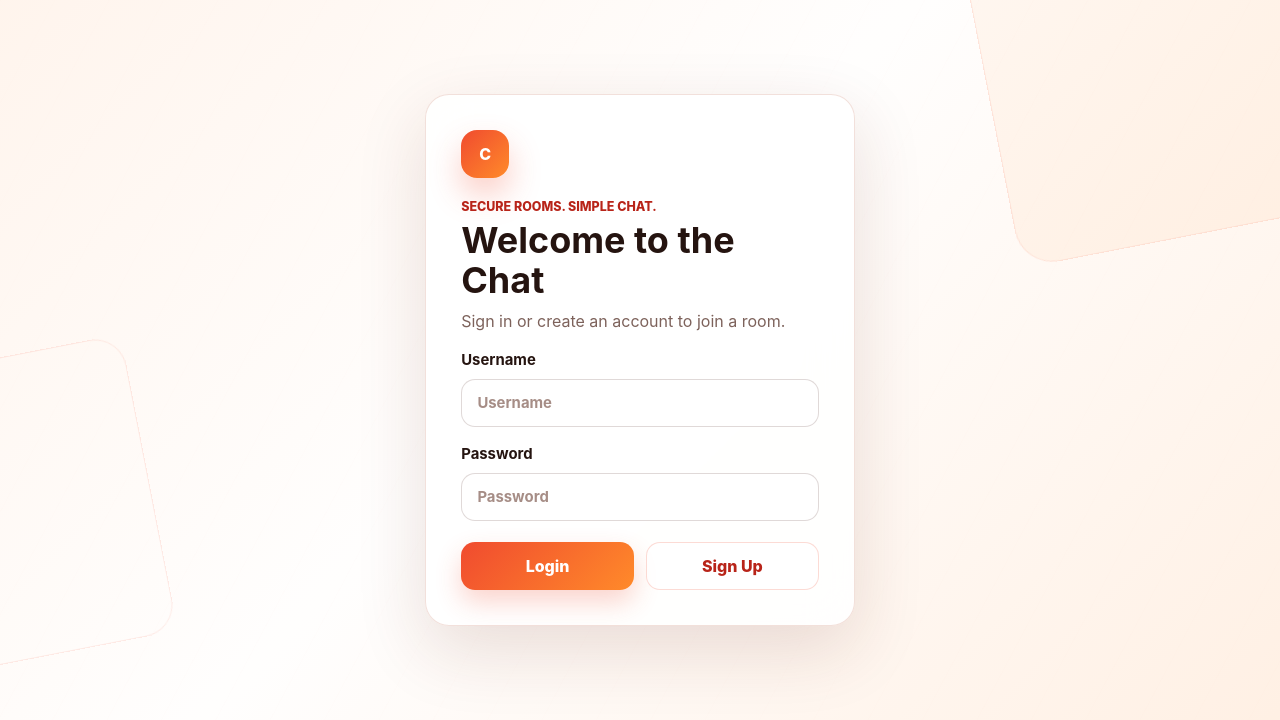
Test case: logout leaves the browser connection usable for the next login
This screenshot has width=1280, height=720.
In the field with placeholder "Username": coordinates (640, 403) [461,379,819,427], type "alice"
In the password field with placeholder "Password": coordinates (640, 497) [461,473,819,521], type "password"
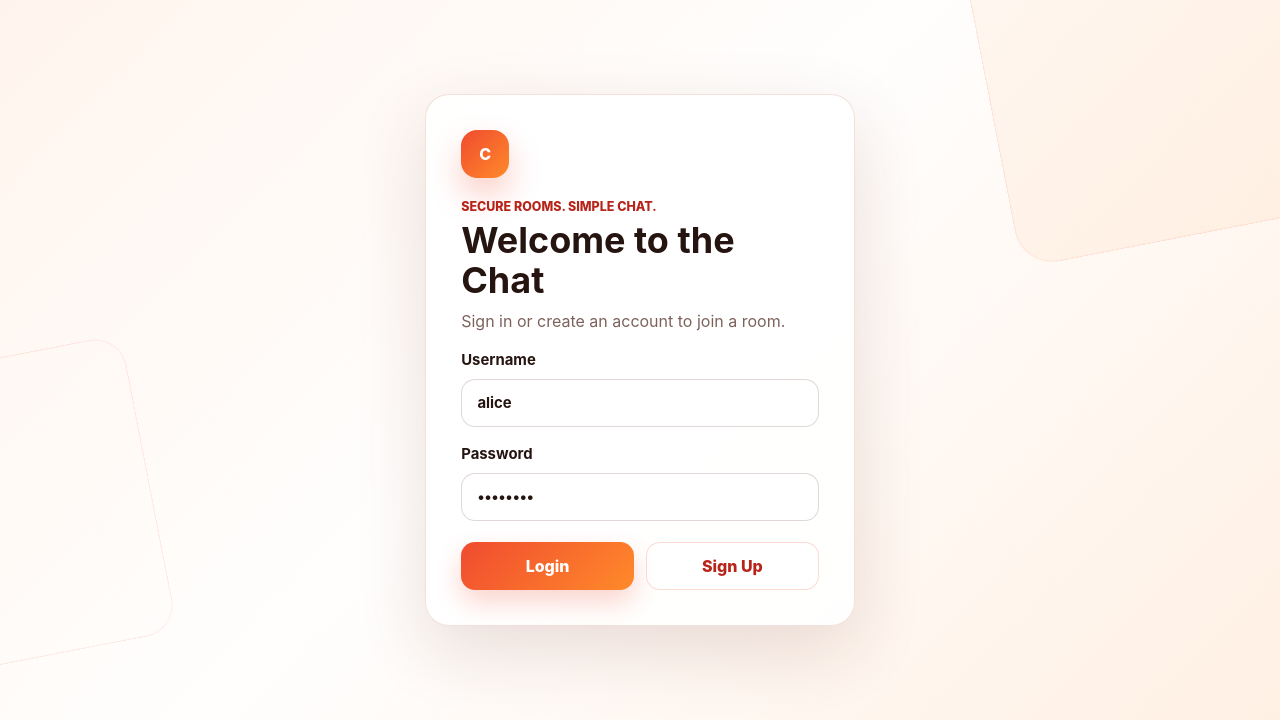
Click the button "Login": coordinates (548, 566) [461,542,634,590]
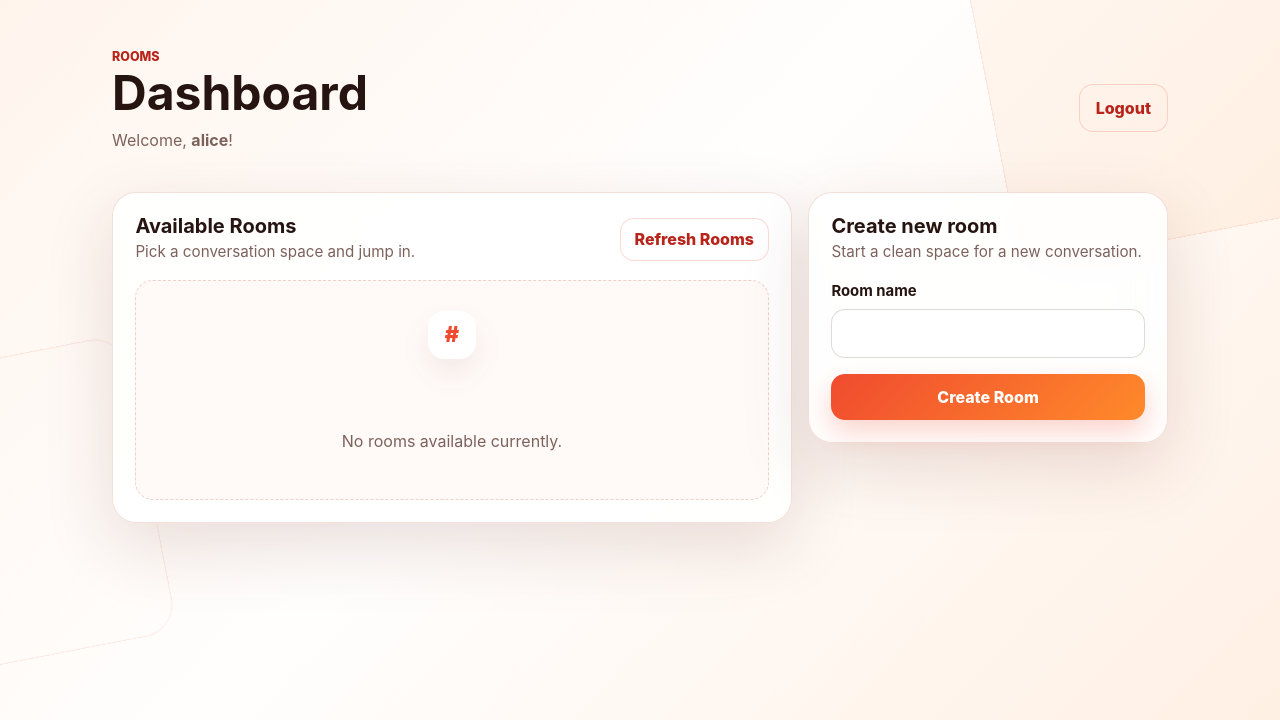
Click the button "Logout": coordinates (1123, 108) [1079,84,1168,132]
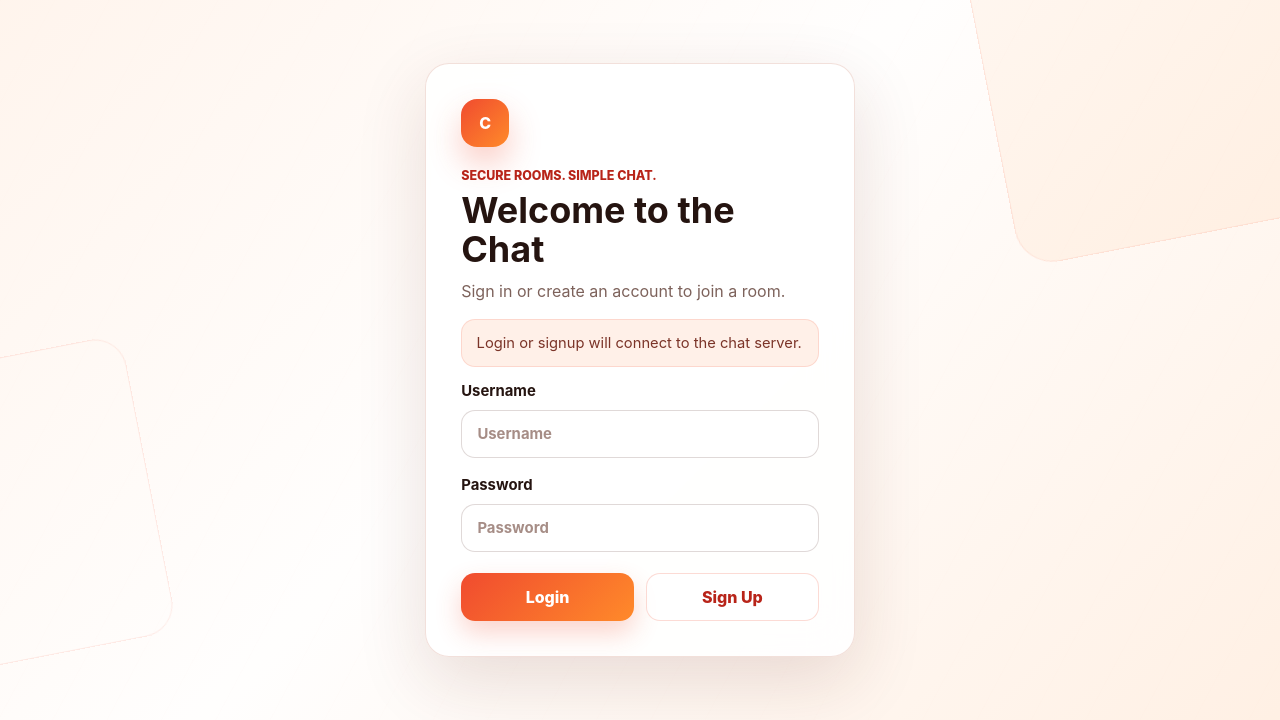
In the field with placeholder "Username": coordinates (640, 434) [461,410,819,458], type "alice"
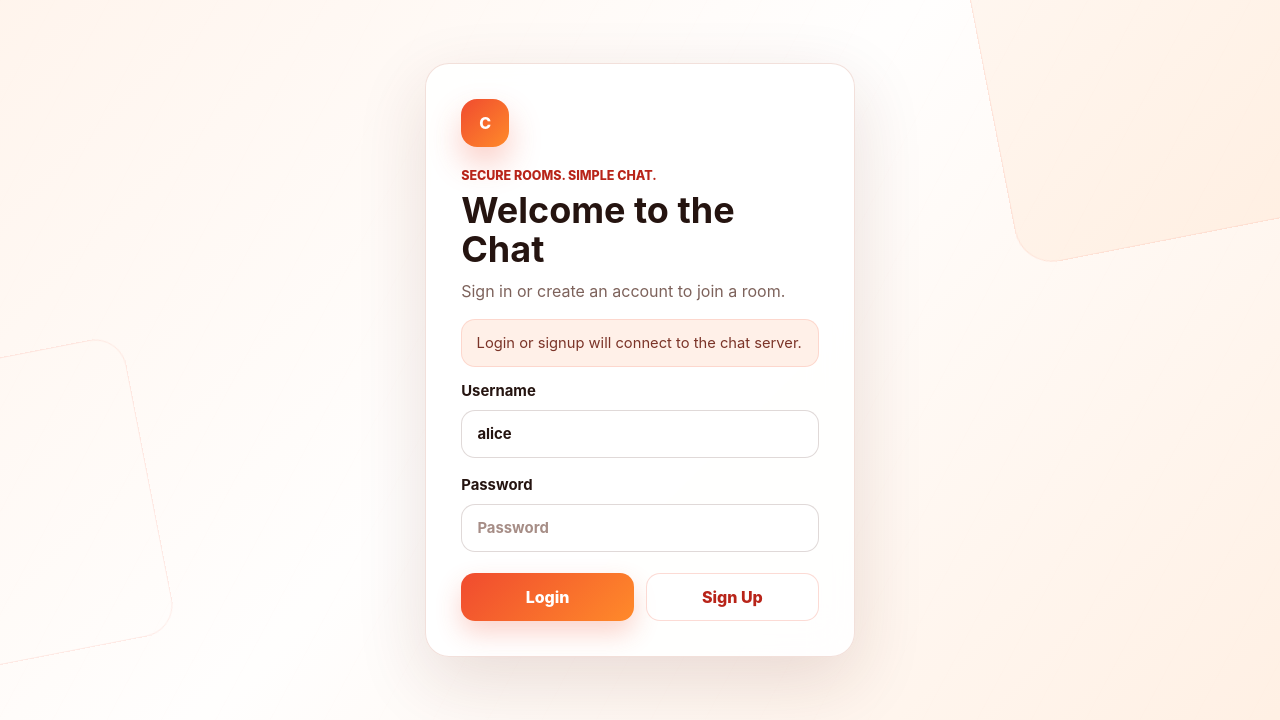
In the password field with placeholder "Password": coordinates (640, 528) [461,504,819,552], type "password"
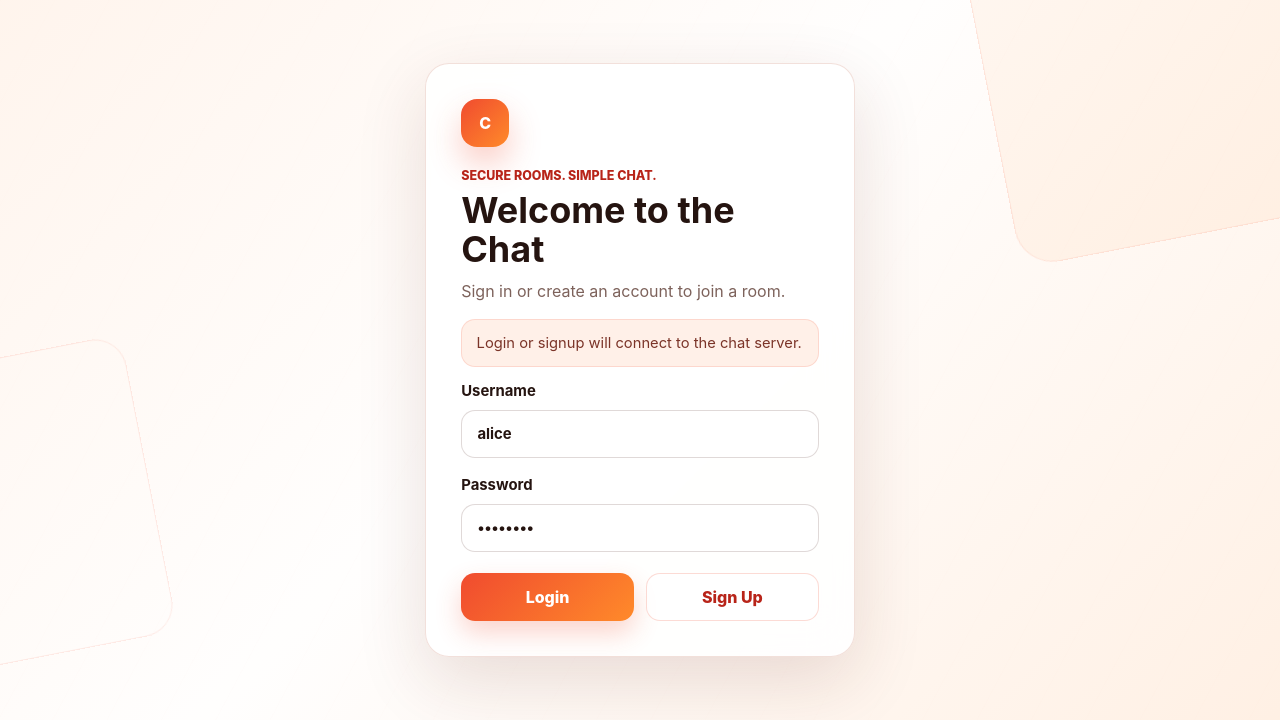
Click the button "Login": coordinates (548, 597) [461,573,634,621]
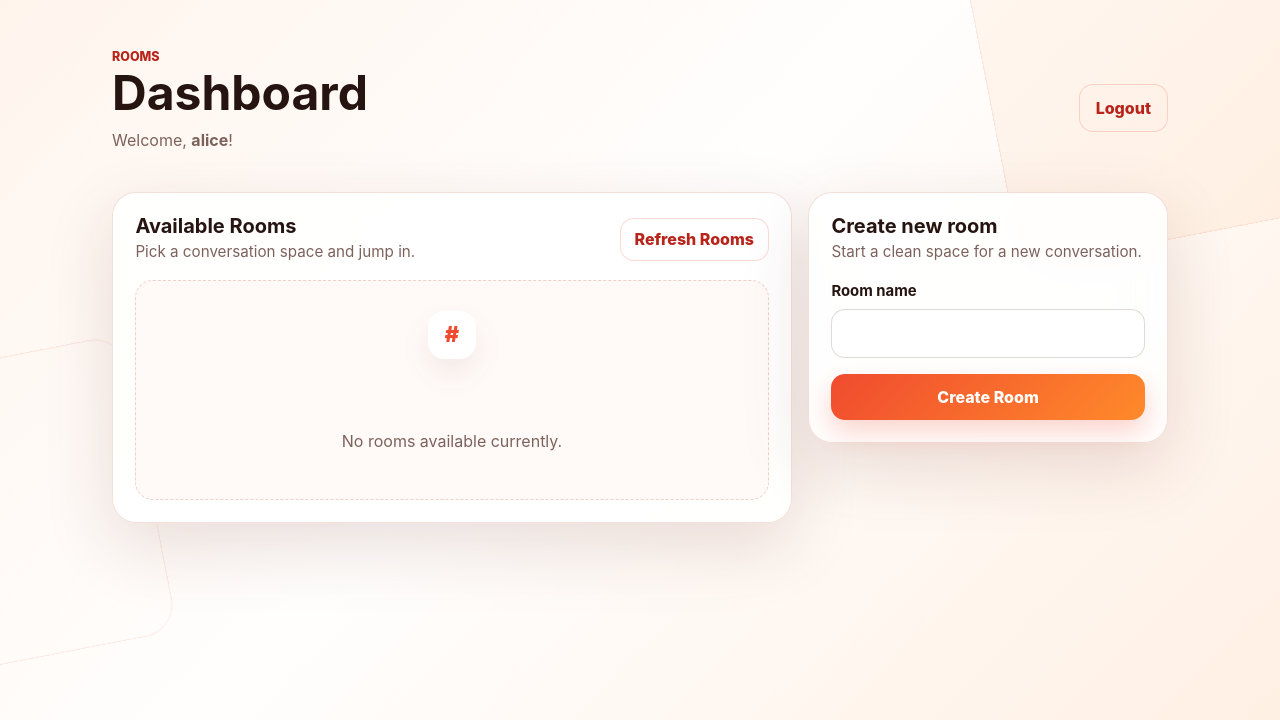
Result: the heading "Dashboard" is shown at [112,67,368,120]
